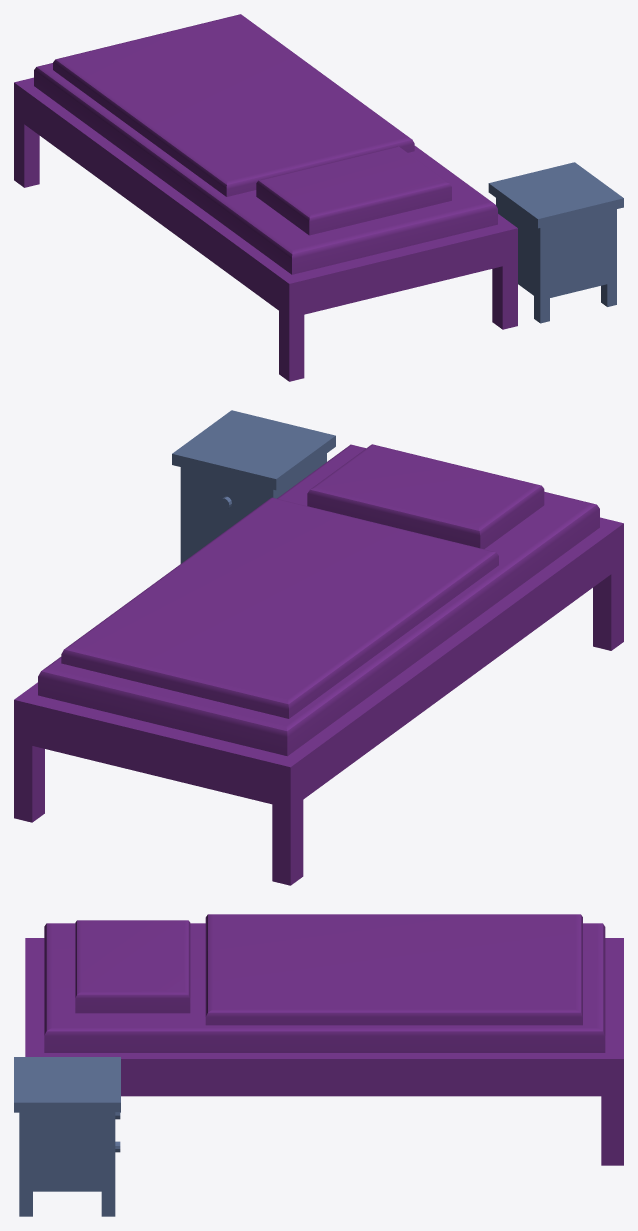
The model's file is gamejam_bed.fbx.
The picture shows the model from 3 angles, top to bottom: view 1: azimuth 30°, elevation 25°; view 2: azimuth 150°, elevation 25°; view 3: azimuth 270°, elevation 25°; orthographic projection. The views are drawn at different scales.
Parts seen in each view (by area): view 1: blanket, bedframe, matress, pillow, bedsidetable, tabletop; view 2: blanket, bedframe, matress, pillow, tabletop, bedsidetable; view 3: blanket, bedframe, matress, pillow, bedsidetable, tabletop.
Boxes of the visible parts, <box> form: blanket: <box>53,14,414,196</box>; bedframe: <box>14,77,517,381</box>; matress: <box>34,63,497,274</box>; pillow: <box>256,146,451,235</box>; bedsidetable: <box>496,198,616,323</box>; tabletop: <box>488,162,623,228</box>; blanket: <box>61,497,498,718</box>; bedframe: <box>14,517,623,885</box>; matress: <box>38,444,599,756</box>; pillow: <box>307,444,544,548</box>; tabletop: <box>172,410,335,490</box>; bedsidetable: <box>180,453,326,563</box>; blanket: <box>205,914,582,1025</box>; bedframe: <box>25,938,623,1165</box>; matress: <box>44,923,605,1052</box>; pillow: <box>75,920,190,1013</box>; bedsidetable: <box>19,1112,115,1216</box>; tabletop: <box>14,1057,120,1112</box>.
Size of the model in its own units: 4.01 by 1.59 by 5.92.
